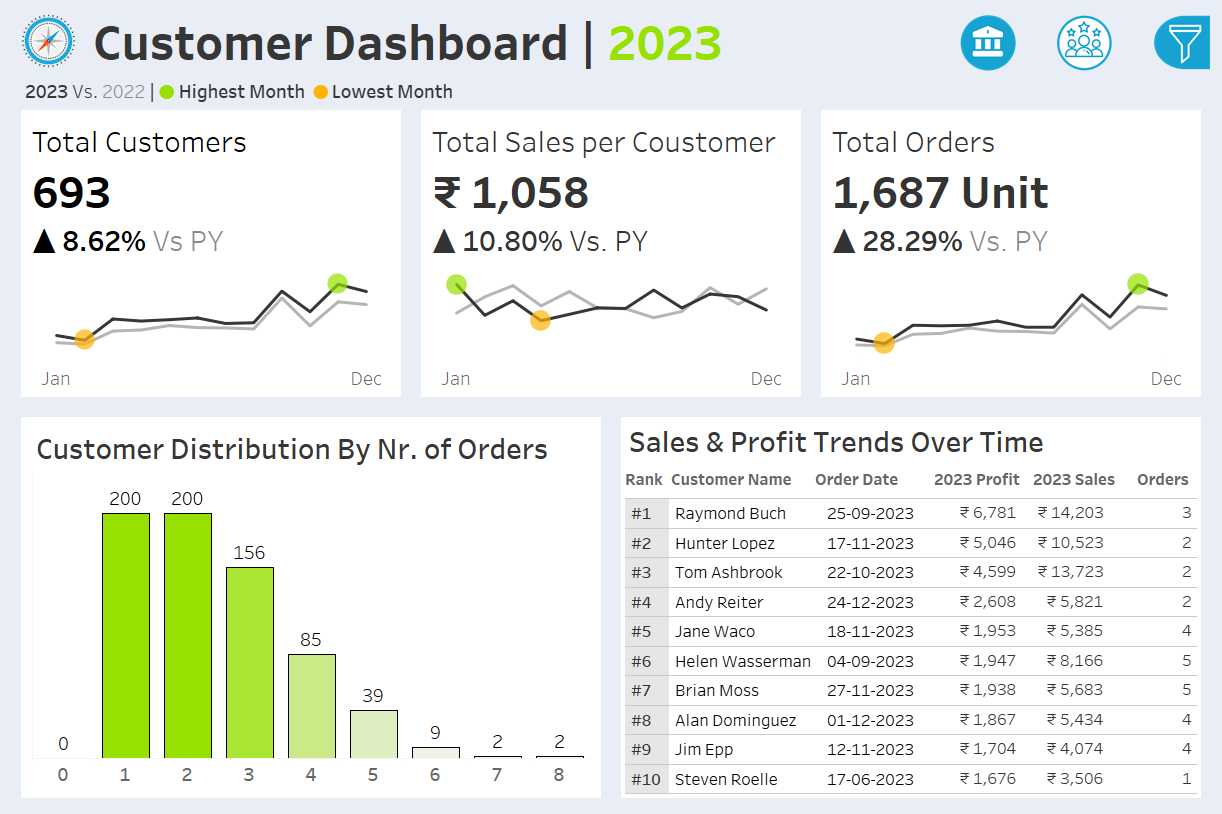

Layout of this report page (visuals, bound fields, positions):
{"tool":"tableau","page":{"name":"Customer Dashboard","canvas":[1200,800],"ordinal":0},"visuals":[{"type":"image","param":"Image/Icon - Logo.png","box":[0,0,74,65]},{"type":"text","box":[74,0,728,65]},{"type":"dashboard-object","box":[927,2,98,65]},{"type":"dashboard-object","box":[1025,2,97,65]},{"type":"blank","box":[947,11,241,64]},{"type":"worksheet","title":"Legend KPIs","mark":"Automatic","box":[0,65,1200,37]},{"type":"text","box":[947,75,241,60]},{"type":"worksheet","title":"Customers","mark":"Automatic","rows":["Calculation_207165602684669955"],"cols":["Order Date"],"box":[0,102,400,297]},{"type":"worksheet","title":"Sales Per Customer","mark":"Automatic","rows":["Calculation_173107130535444488"],"cols":["Order Date"],"box":[400,102,400,297]},{"type":"worksheet","title":"Orders","mark":"Automatic","rows":["Calculation_173107130529824770"],"cols":["Order Date"],"box":[800,102,400,297]},{"type":"parameter","param":"[Parameters].[Parameter 1]","box":[947,135,241,60]},{"type":"blank","box":[947,195,241,58]},{"type":"text","box":[947,253,241,39]},{"type":"filter","title":"Customers","param":"[federated.1fkogru1l11lt116tqupk1sp67rr].[none:Category:nk]","box":[947,292,241,70]},{"type":"filter","title":"Customers","param":"[federated.1fkogru1l11lt116tqupk1sp67rr].[none:Sub-Category:nk]","box":[947,362,241,70]},{"type":"text","box":[610,409,580,47]},{"type":"text","box":[17,416,566,47]},{"type":"blank","box":[947,432,241,61]},{"type":"text","box":[610,456,46,30]},{"type":"text","box":[656,456,144,30]},{"type":"text","box":[800,456,119,30]},{"type":"text","box":[919,456,99,30]},{"type":"text","box":[1018,456,104,30]},{"type":"text","box":[1122,456,68,30]},{"type":"worksheet","title":"Customer Distribution","mark":"Bar","rows":["Calculation_207165602673754112"],"cols":["Calculation_845832325111414784"],"box":[17,463,566,320]},{"type":"worksheet","title":"Top Customer","mark":"Automatic","rows":["Calculation_839921350665322497","Customer Name","Order Date"],"box":[610,486,580,304]},{"type":"text","box":[947,493,241,39]},{"type":"filter","title":"Customers","param":"[federated.1fkogru1l11lt116tqupk1sp67rr].[none:Region:nk]","box":[947,532,241,70]},{"type":"filter","title":"Customers","param":"[federated.1fkogru1l11lt116tqupk1sp67rr].[none:State:nk]","box":[947,602,241,70]},{"type":"filter","title":"Customers","param":"[federated.1fkogru1l11lt116tqupk1sp67rr].[none:City:nk]","box":[947,672,241,70]}]}

Visuals, with their boxes in screenshot pixels (x1, y1, x2, y2), scaled from the page's 1200x800 canvas onto the 1222x814 screenshot:
image: 0,0,75,66
text: 75,0,817,66
dashboard-object: 944,2,1044,68
dashboard-object: 1044,2,1143,68
blank: 964,11,1210,76
"Legend KPIs" worksheet: 0,66,1221,104
text: 964,76,1210,137
"Customers" worksheet: 0,104,407,406
"Sales Per Customer" worksheet: 407,104,815,406
"Orders" worksheet: 815,104,1221,406
parameter: 964,137,1210,198
blank: 964,198,1210,257
text: 964,257,1210,297
"Customers" filter: 964,297,1210,368
"Customers" filter: 964,368,1210,440
text: 621,416,1212,464
text: 17,423,594,471
blank: 964,440,1210,502
text: 621,464,668,495
text: 668,464,815,495
text: 815,464,936,495
text: 936,464,1037,495
text: 1037,464,1143,495
text: 1143,464,1212,495
"Customer Distribution" worksheet (Bar marks): 17,471,594,797
"Top Customer" worksheet: 621,495,1212,804
text: 964,502,1210,541
"Customers" filter: 964,541,1210,613
"Customers" filter: 964,613,1210,684
"Customers" filter: 964,684,1210,755
